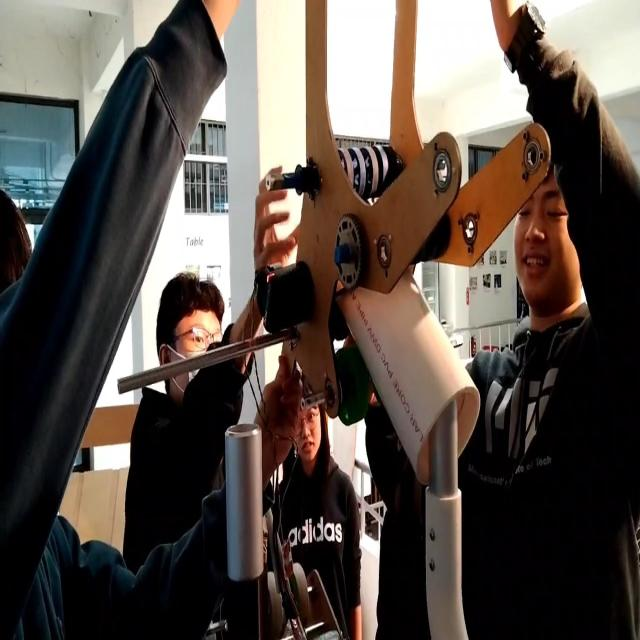CORAL: (339, 224, 482, 487)
